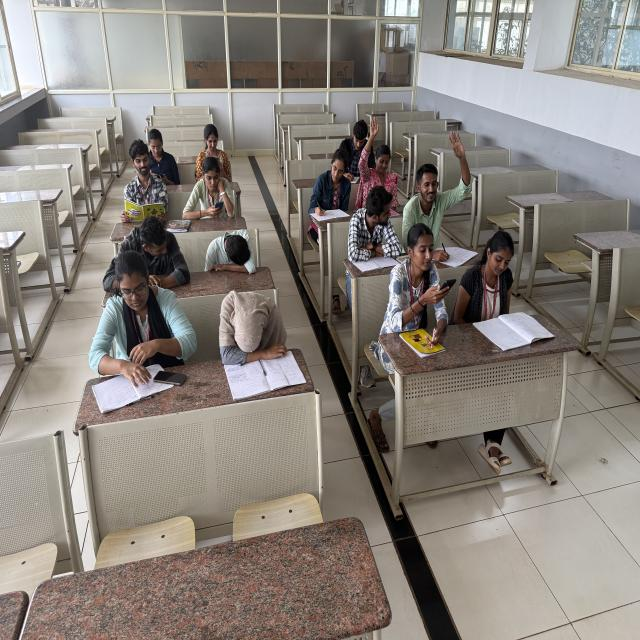Hand Rising: (412, 116, 477, 233), (360, 114, 406, 196)
Reading: (114, 138, 158, 222)
Sleeping: (206, 265, 297, 365), (210, 215, 270, 301)
Using Phone: (464, 216, 562, 359), (392, 248, 452, 324), (188, 154, 239, 234), (200, 115, 246, 185), (146, 121, 186, 198)
Writing: (300, 148, 351, 232), (336, 109, 372, 186)
